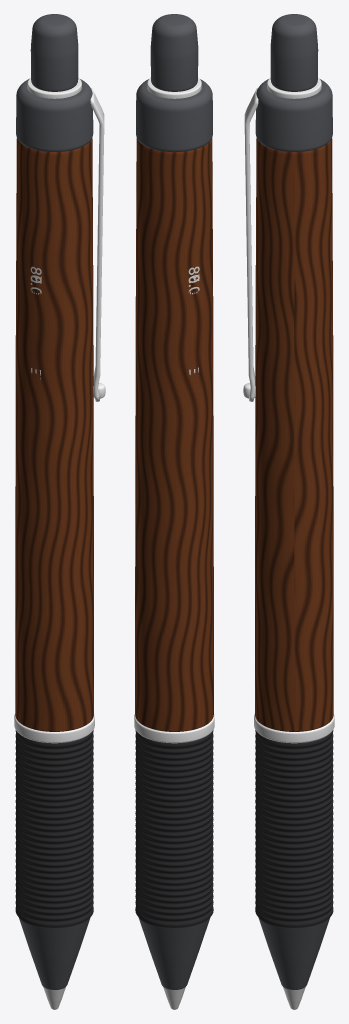
Rendered from pen-ballpoint-wood.glb.
The picture shows the model from 3 angles, left to right: view 1: azimuth 90°, elevation 25°; view 2: azimuth 150°, elevation 25°; view 3: azimuth 270°, elevation 25°; orthographic projection.
Parts seen in each view (by area): view 1: Barrel, Grip, TopCap, Knock, Cone, Clip, Ring, KnockRing, Tip; view 2: Barrel, Grip, TopCap, Knock, Cone, Ring, KnockRing, Tip; view 3: Barrel, Grip, TopCap, Knock, Cone, Clip, Ring, KnockRing, Tip.
Boxes of the visible parts, x1=… form: Barrel: x1=15, y1=138, x2=93, y2=731; Grip: x1=15, y1=730, x2=93, y2=928; TopCap: x1=16, y1=79, x2=93, y2=152; Knock: x1=30, y1=14, x2=78, y2=91; Cone: x1=19, y1=918, x2=90, y2=989; Clip: x1=90, y1=88, x2=104, y2=401; Ring: x1=14, y1=714, x2=94, y2=743; KnockRing: x1=27, y1=78, x2=81, y2=98; Tip: x1=43, y1=987, x2=65, y2=1009; Barrel: x1=135, y1=138, x2=213, y2=731; Grip: x1=135, y1=730, x2=213, y2=928; TopCap: x1=136, y1=79, x2=212, y2=151; Knock: x1=150, y1=14, x2=198, y2=91; Cone: x1=139, y1=918, x2=209, y2=989; Ring: x1=134, y1=714, x2=214, y2=743; KnockRing: x1=147, y1=77, x2=201, y2=98; Tip: x1=163, y1=987, x2=185, y2=1009; Barrel: x1=255, y1=138, x2=333, y2=731; Grip: x1=255, y1=730, x2=333, y2=928; TopCap: x1=255, y1=79, x2=332, y2=152; Knock: x1=270, y1=14, x2=318, y2=91; Cone: x1=258, y1=918, x2=329, y2=989; Clip: x1=244, y1=88, x2=258, y2=401; Ring: x1=254, y1=714, x2=334, y2=743; KnockRing: x1=267, y1=78, x2=321, y2=98; Tip: x1=283, y1=987, x2=305, y2=1009.
Bounding box in the file's own units: 0.0106 × 0.1442 × 0.0121.
Materials: 7 (1 with a texture image).
